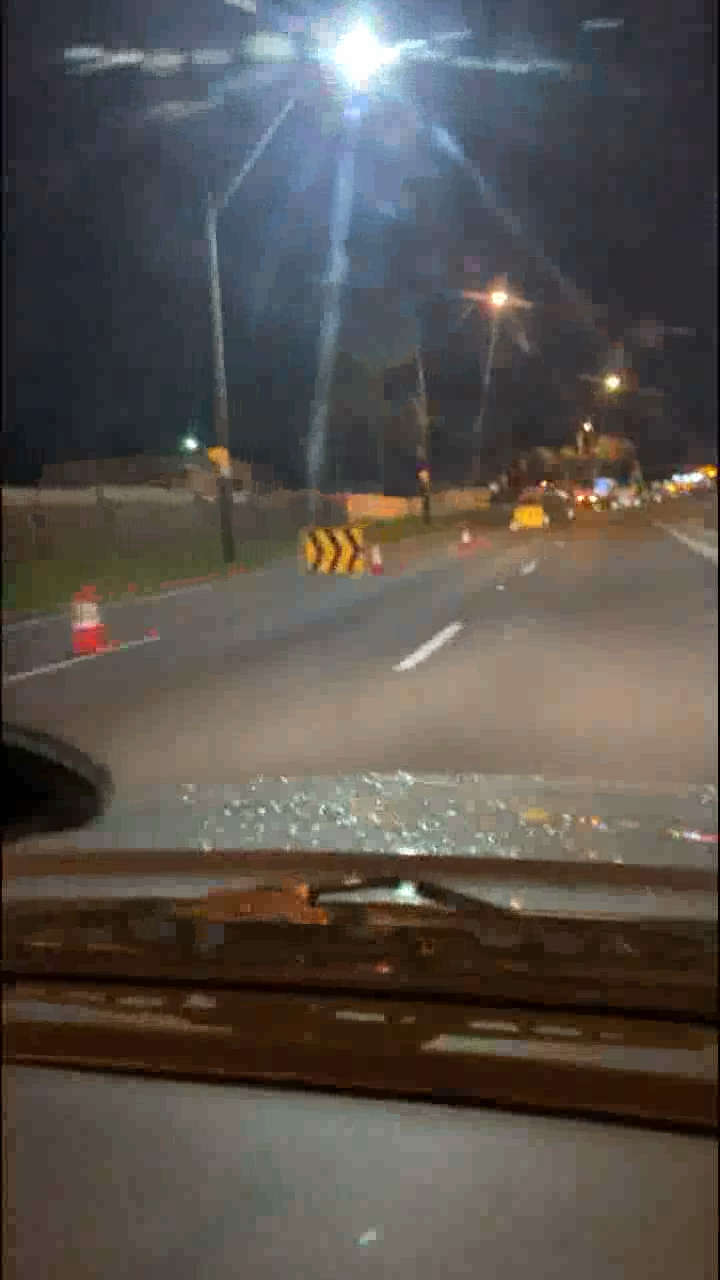road cone: (70, 590, 118, 654)
road works sign board: (293, 530, 375, 580)
